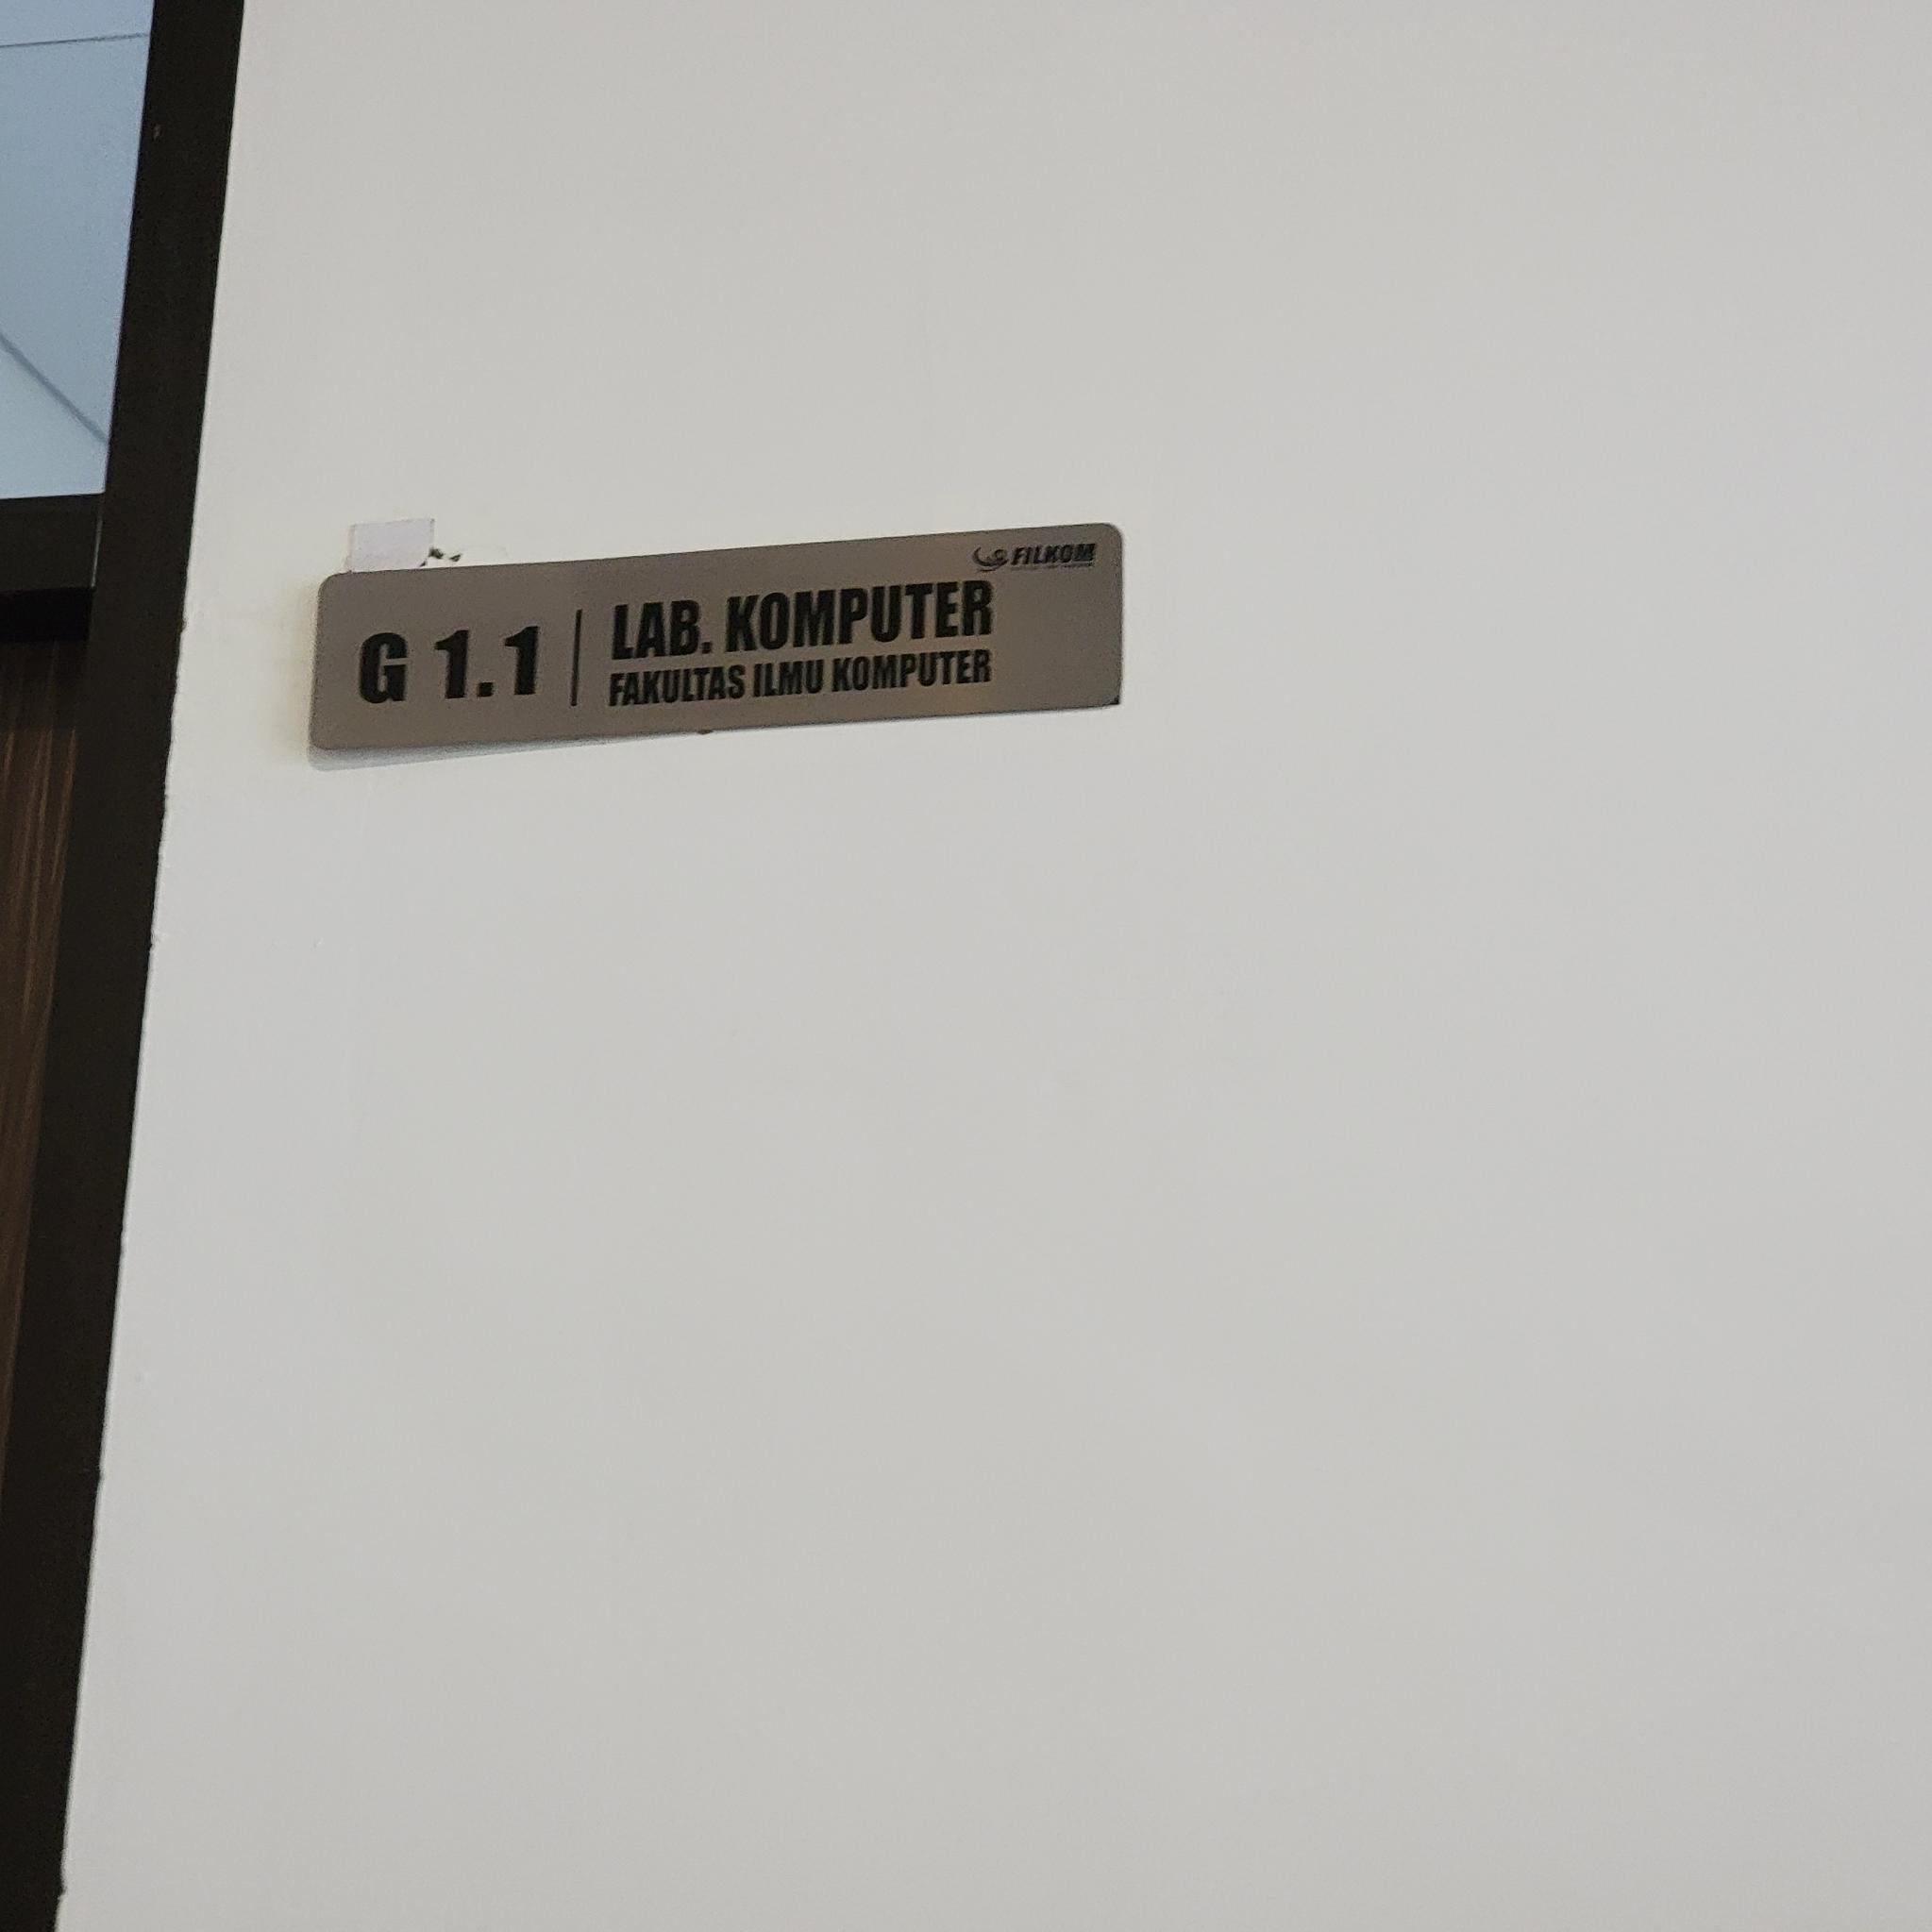plate: (310, 518, 1125, 752)
